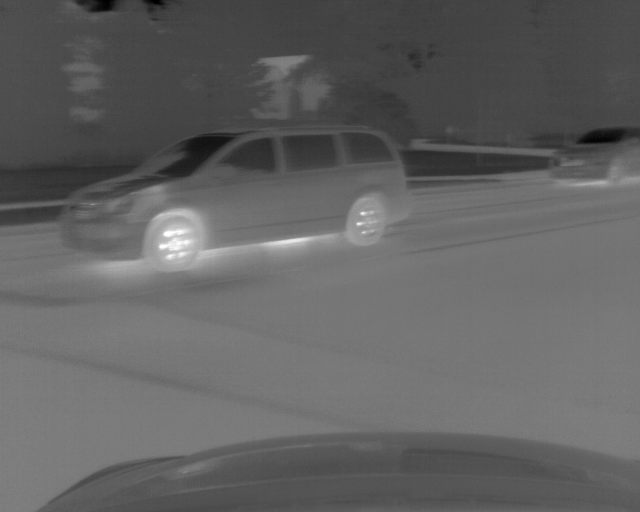car: (60, 125, 409, 270), (551, 124, 640, 184)
